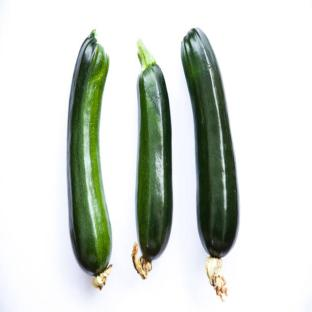Zucchini: (181, 29, 238, 297), (67, 31, 111, 289), (133, 41, 172, 279)
